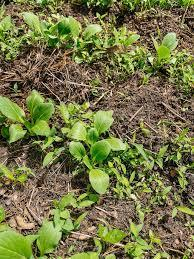Healthy-Pechay: (0, 90, 127, 171), (2, 205, 104, 259), (136, 27, 188, 67)
